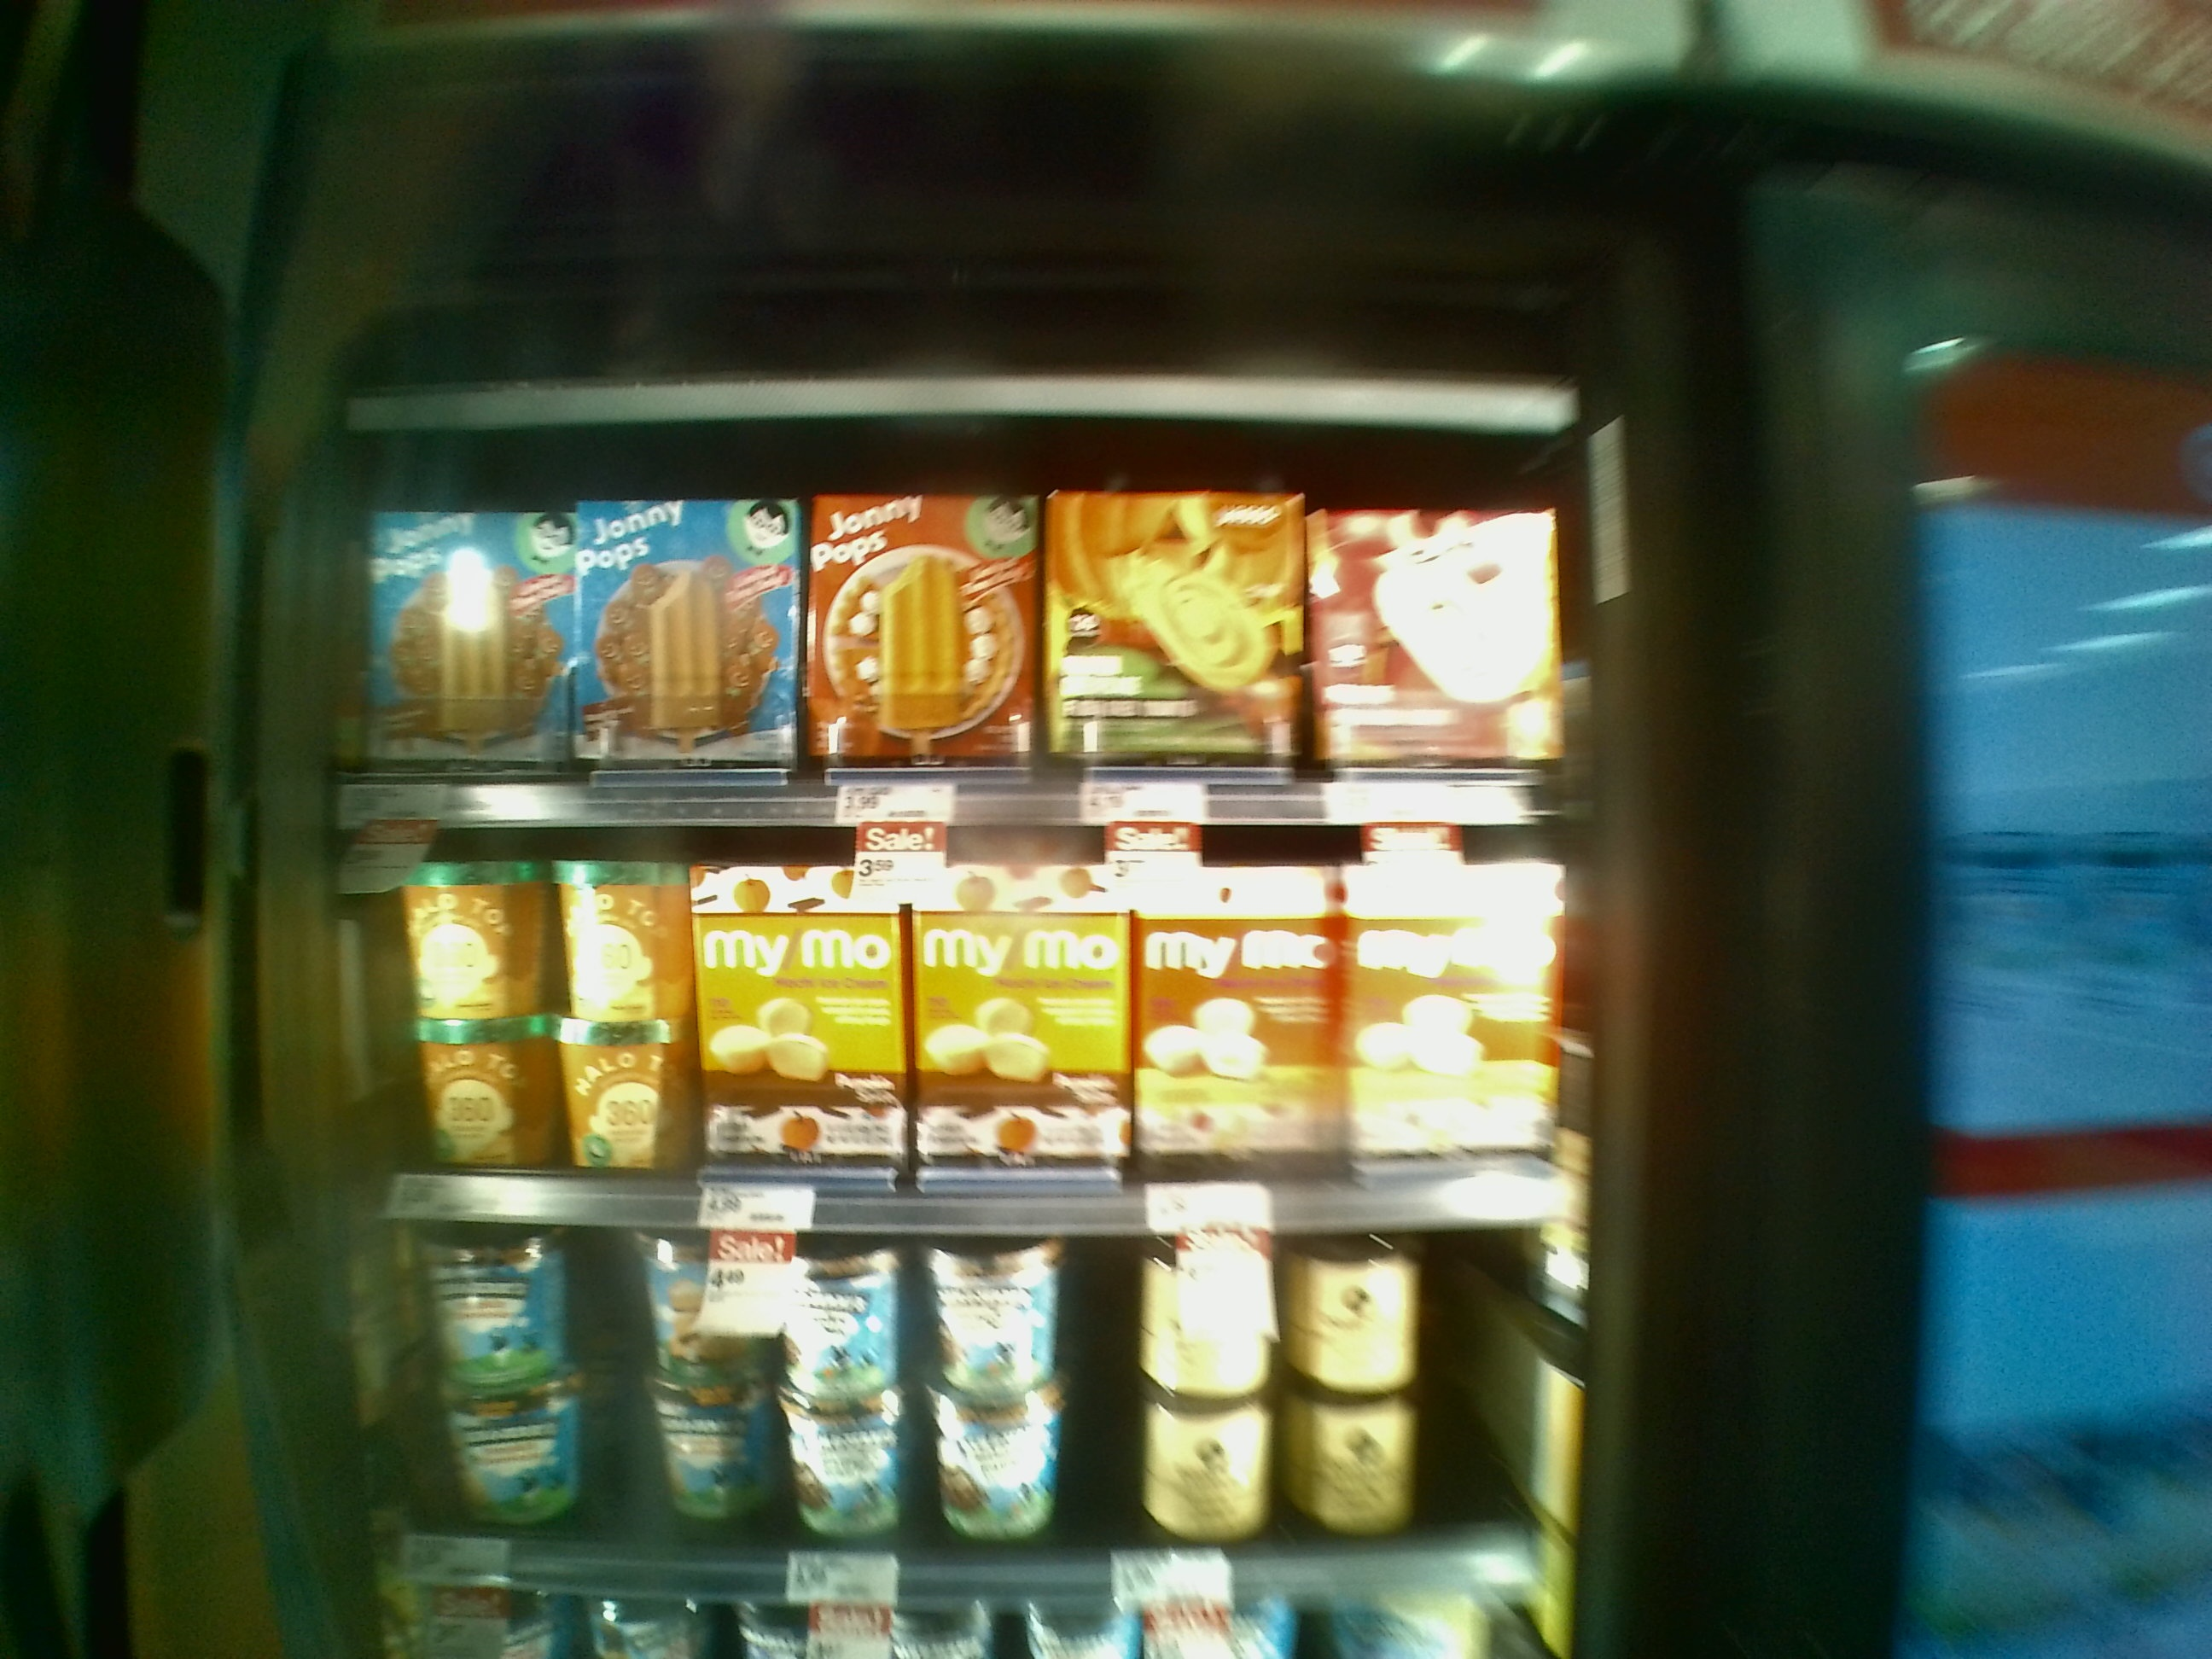shelf: (312, 793, 1587, 1229), (322, 411, 1588, 807), (319, 1195, 1576, 1581)
